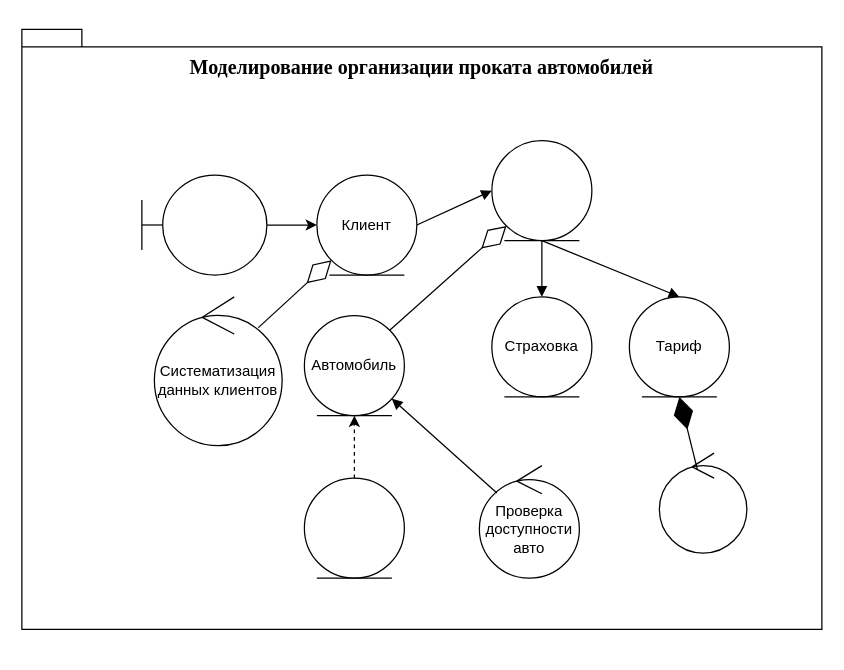
The diagram is 844 pixels wide and 670 high, and some of its shapes have lost their labels. The shapes that lost their labels are listed below. From the top down, each one's centre as x and y in pixels, then its label:
point (541, 190): Аренда
point (204, 224): Обращение клиента
point (702, 502): Расчет стоимости аренды
point (353, 527): Категория
